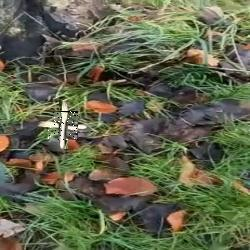restaffald: (48, 111, 78, 140)
